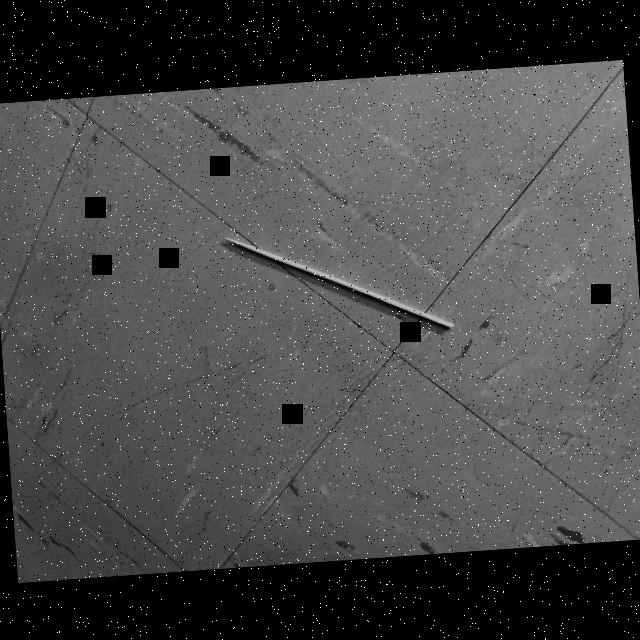stick: (221, 211, 462, 356)
